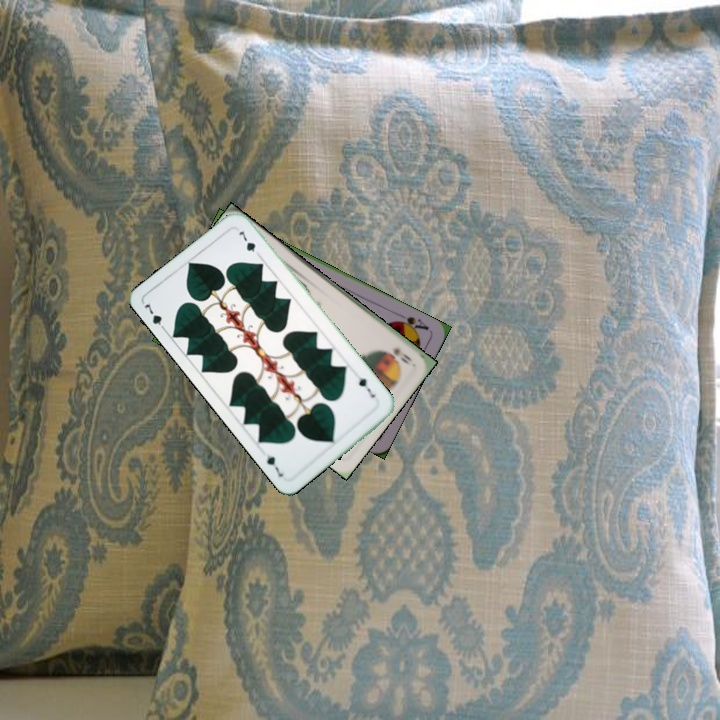G7: (140, 298, 169, 334), (354, 373, 378, 400)
SA: (391, 312, 431, 335)
SO: (388, 344, 415, 368)
